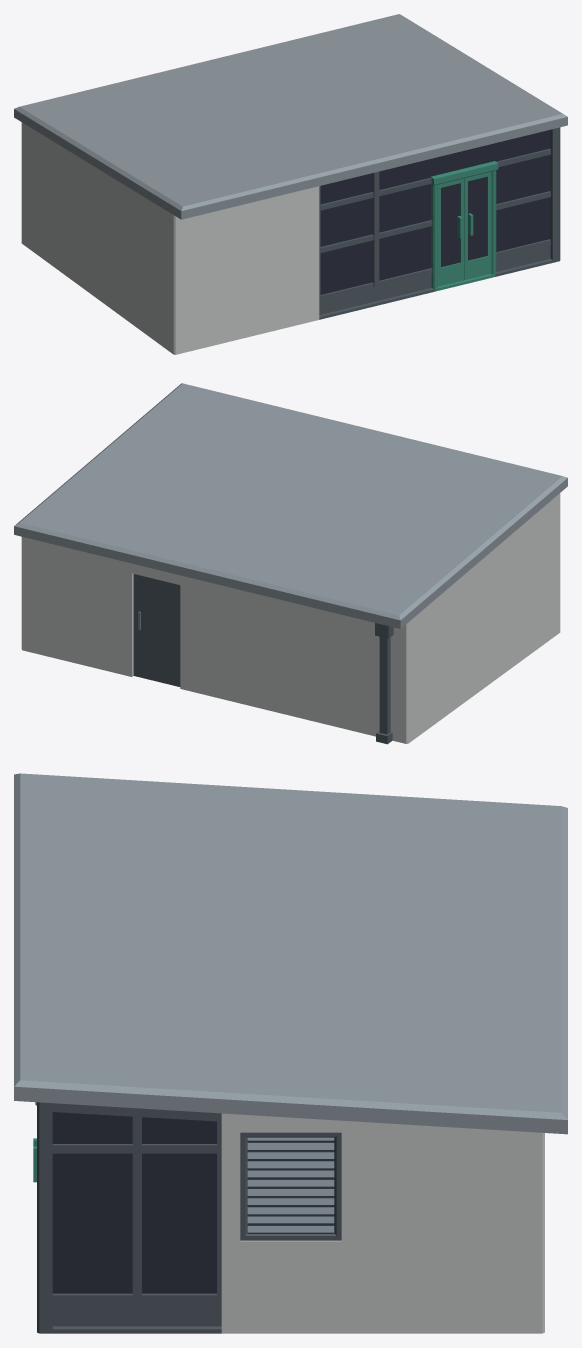
Rendered from clinic-annexe.glb.
3 renders of one model, top to bottom at view 1: azimuth 30°, elevation 25°; view 2: azimuth 150°, elevation 25°; view 3: azimuth 270°, elevation 25°, orthographic. The views are drawn at different scales.
Parts seen in each view (by area): view 1: clinic-annexe, door-l, door-r; view 2: clinic-annexe; view 3: clinic-annexe.
Part boxes in pixels (left/top/right/bottom): clinic-annexe: left=14, top=14, right=567, bottom=354; door-l: left=437, top=178, right=464, bottom=286; door-r: left=464, top=171, right=491, bottom=279; clinic-annexe: left=14, top=383, right=567, bottom=744; clinic-annexe: left=14, top=773, right=567, bottom=1333.
Size of the model in its own units: 8 by 3 by 6.
